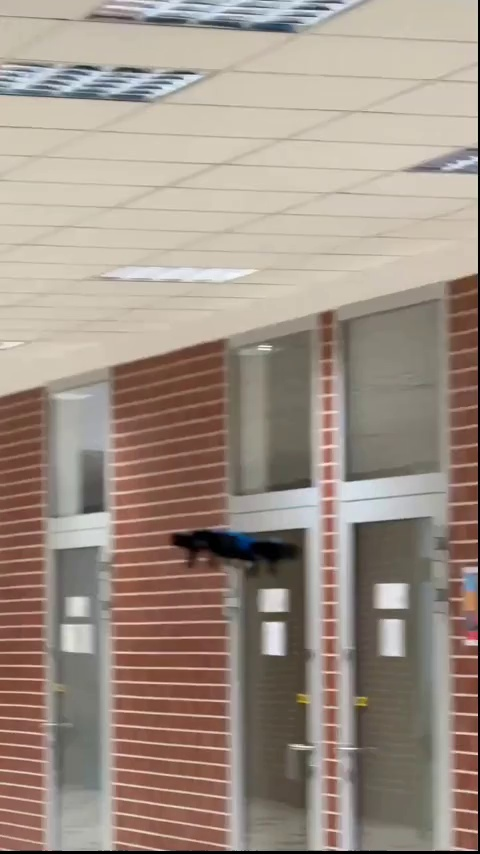drone: (169, 524, 301, 570)
